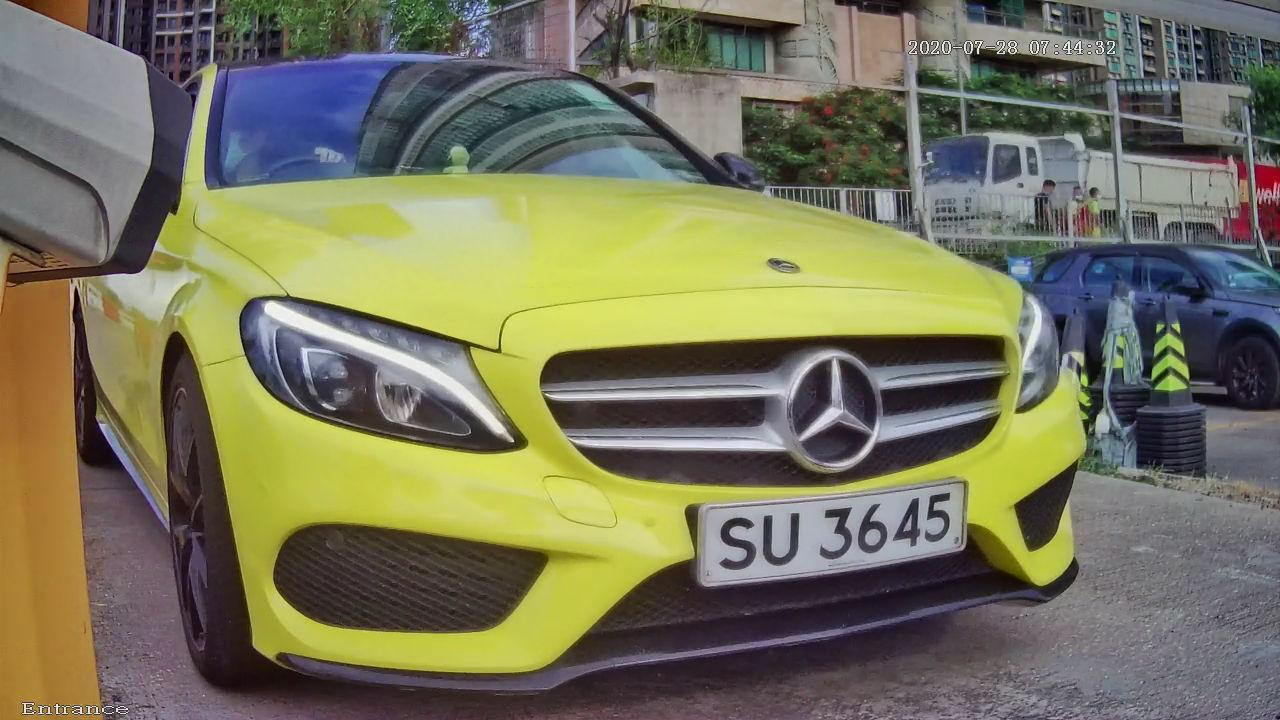privatecar: (69, 10, 1166, 720)
